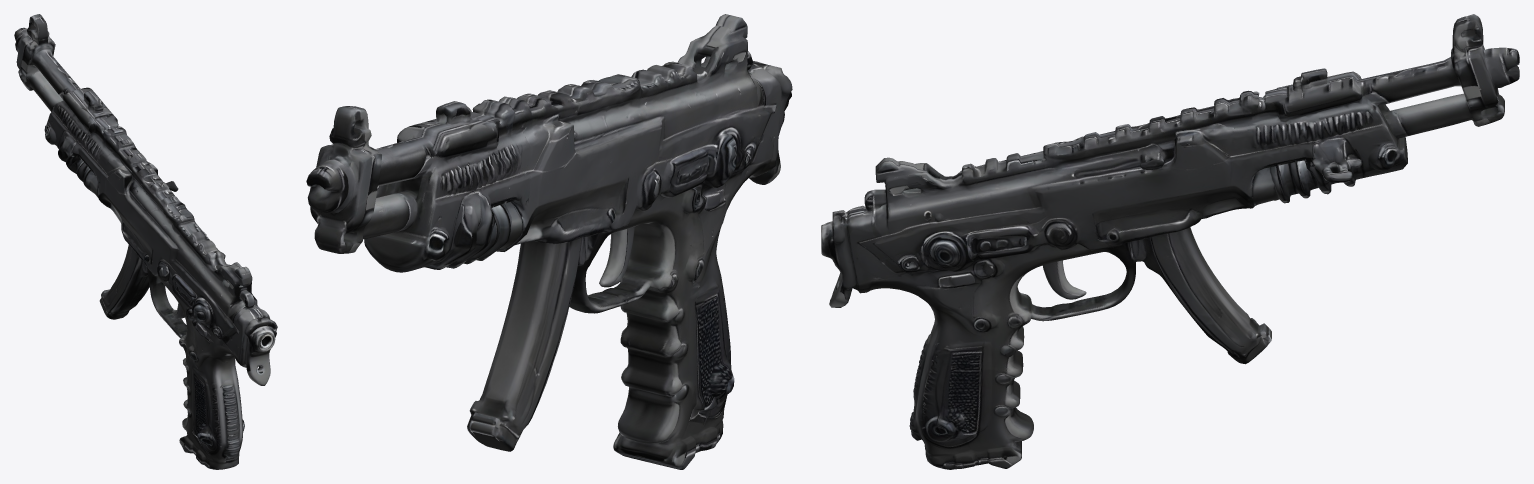
Rendered from weapon-smg.glb.
The picture shows the model from 3 angles, left to right: view 1: azimuth 30°, elevation 25°; view 2: azimuth 150°, elevation 25°; view 3: azimuth 270°, elevation 25°; orthographic projection. The views are drawn at different scales.
Parts seen in each view (by area): view 1: tripo_node_f75b94ed-dbe0-45e8-991f-3c61d7734d29; view 2: tripo_node_f75b94ed-dbe0-45e8-991f-3c61d7734d29; view 3: tripo_node_f75b94ed-dbe0-45e8-991f-3c61d7734d29.
Part boxes in pixels (<box>): tripo_node_f75b94ed-dbe0-45e8-991f-3c61d7734d29: <box>14,14,277,469</box>; tripo_node_f75b94ed-dbe0-45e8-991f-3c61d7734d29: <box>306,14,792,469</box>; tripo_node_f75b94ed-dbe0-45e8-991f-3c61d7734d29: <box>821,14,1519,469</box>.
Size of the model in its own units: 0.1352 by 0.7027 by 0.9998.
1 material, 1 textured.
